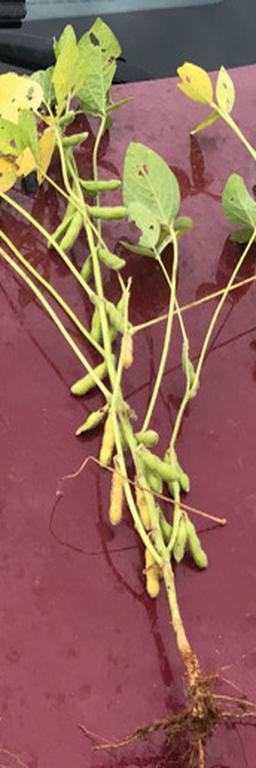pod: (68, 357, 114, 395), (186, 524, 210, 571), (107, 472, 126, 526), (144, 549, 162, 602), (97, 418, 116, 467), (84, 203, 129, 222), (97, 246, 128, 272), (79, 174, 121, 192), (119, 334, 134, 370), (80, 257, 94, 283)
soy: (16, 49, 256, 735)
